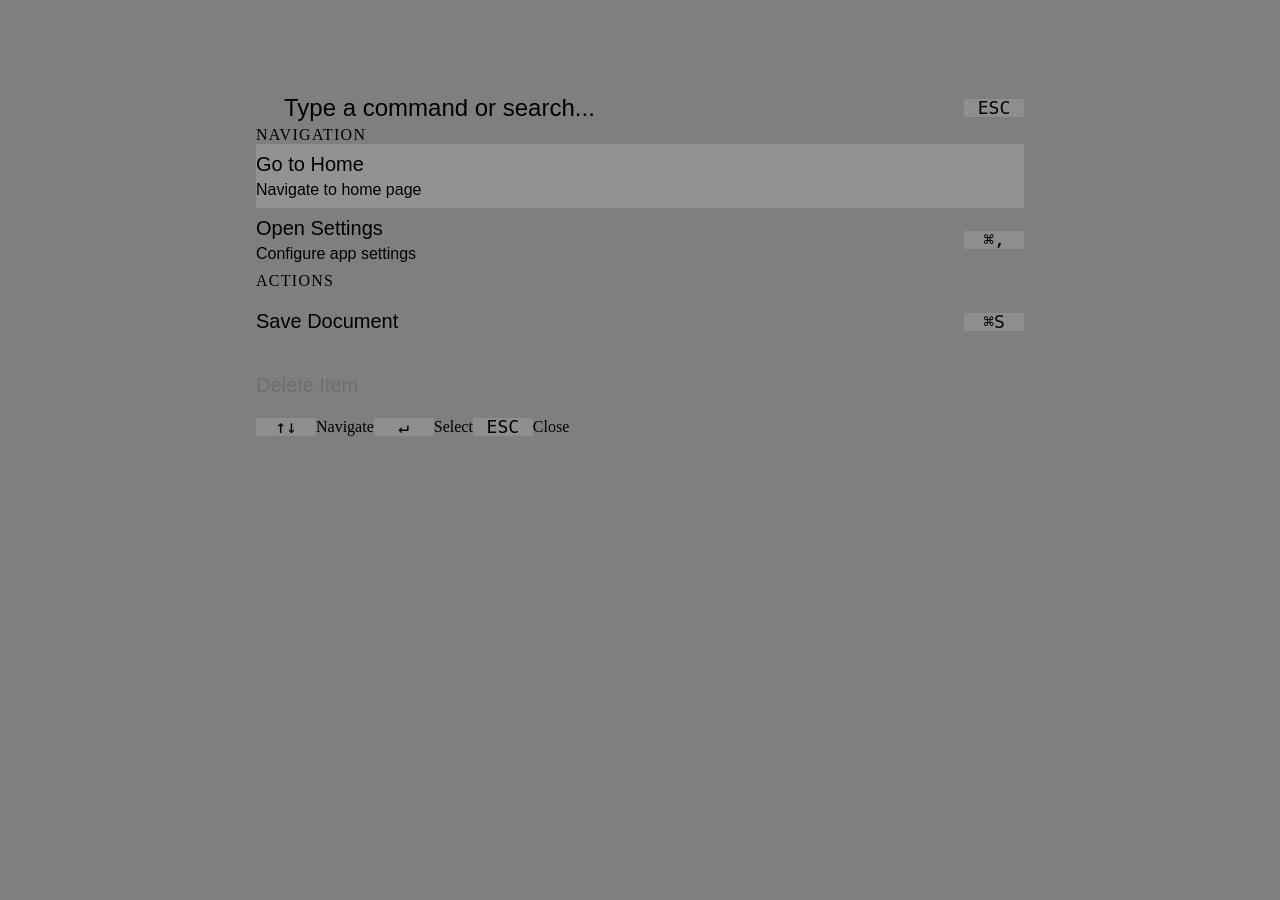
Test case: CommandPalette › Search Functionality › filters commands based on search query
In the field with placeholder "Type a command or search...": [624, 108] box [284,90,964,126], type "settings"
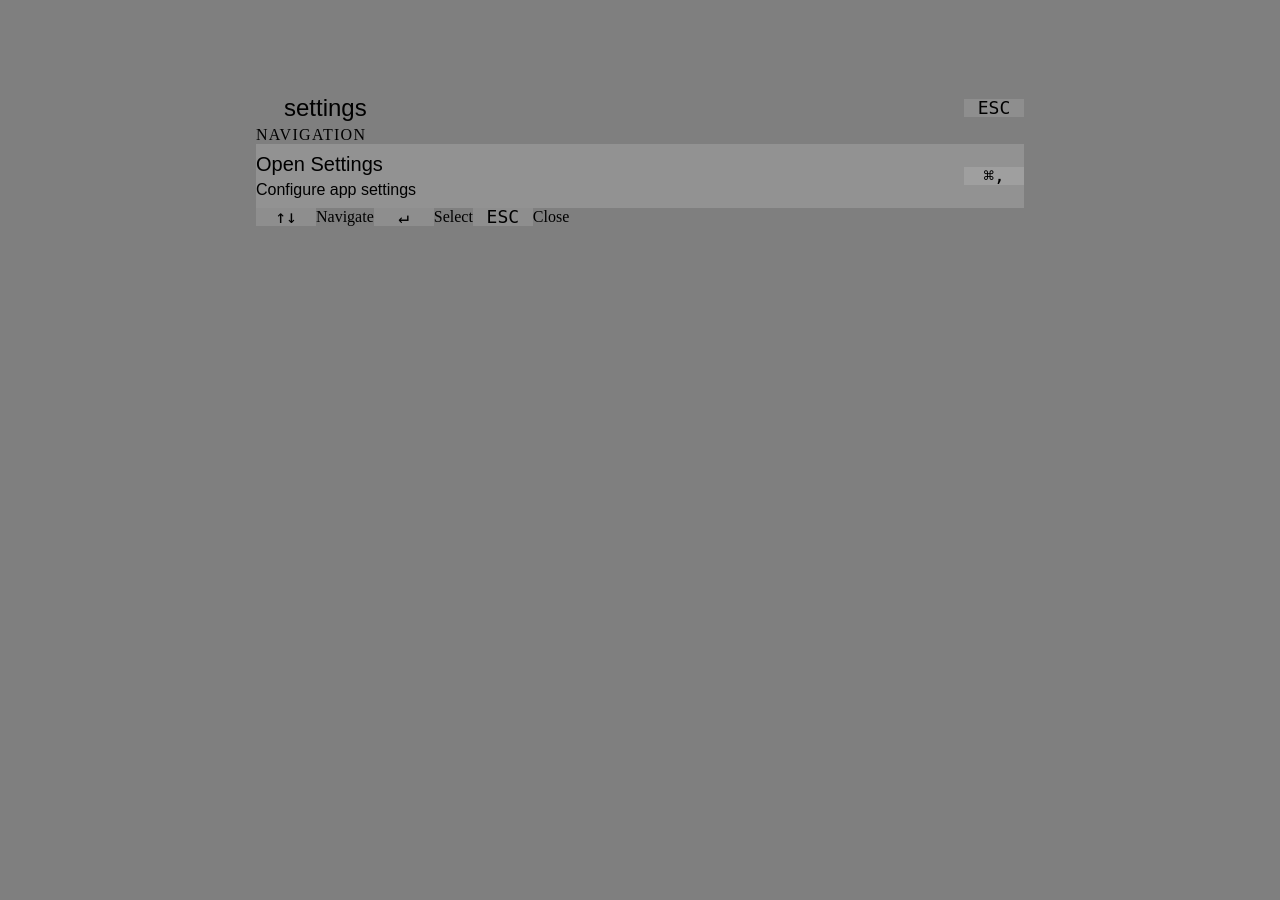
Expected: the text "Open Settings" is shown, [256,153,383,175]
Now the option "Go to Home" is gone
